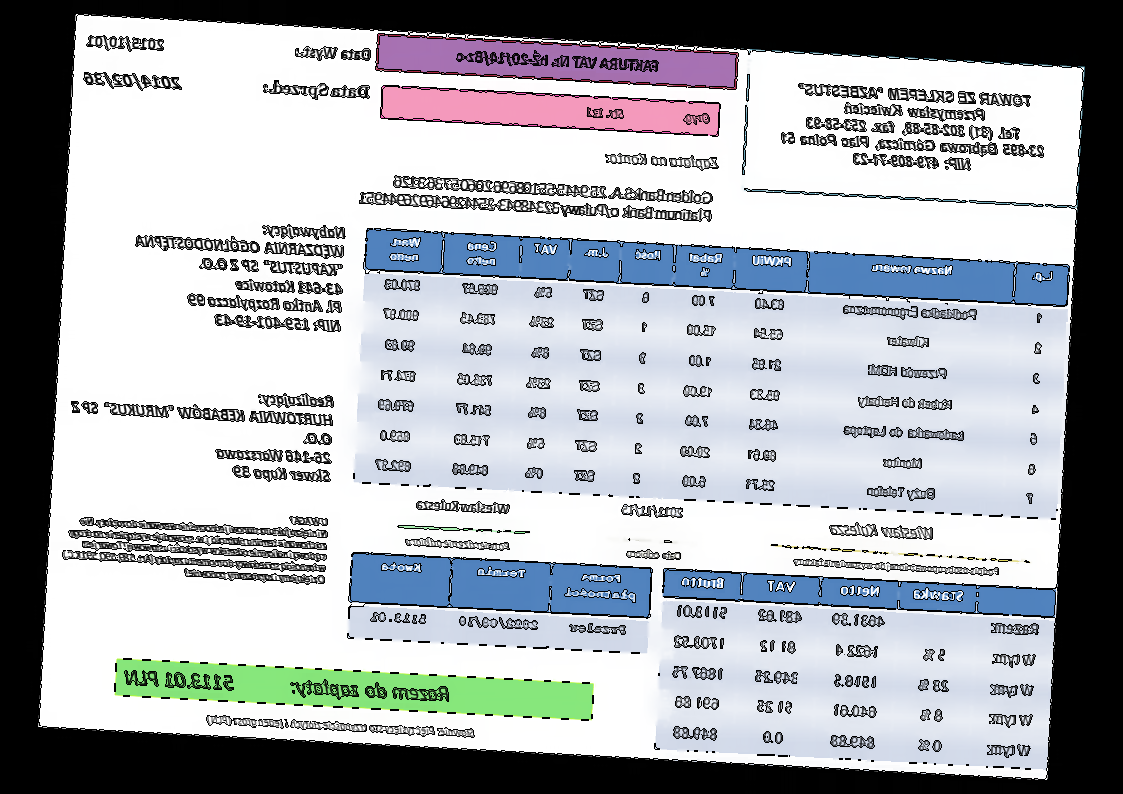Table: (354, 225, 1071, 519), (654, 567, 1057, 770), (346, 551, 654, 655)
TextBox: (66, 378, 336, 485), (776, 80, 1050, 178), (127, 214, 347, 336), (59, 502, 331, 587), (356, 171, 714, 225), (122, 665, 453, 705), (205, 712, 476, 741), (454, 44, 660, 77), (792, 553, 1001, 579), (603, 148, 722, 174), (259, 78, 371, 104), (827, 518, 937, 544), (584, 104, 713, 126), (81, 69, 183, 95), (404, 534, 512, 554), (414, 495, 512, 517), (85, 32, 166, 54), (293, 43, 372, 64), (620, 501, 686, 522), (626, 546, 684, 562)
